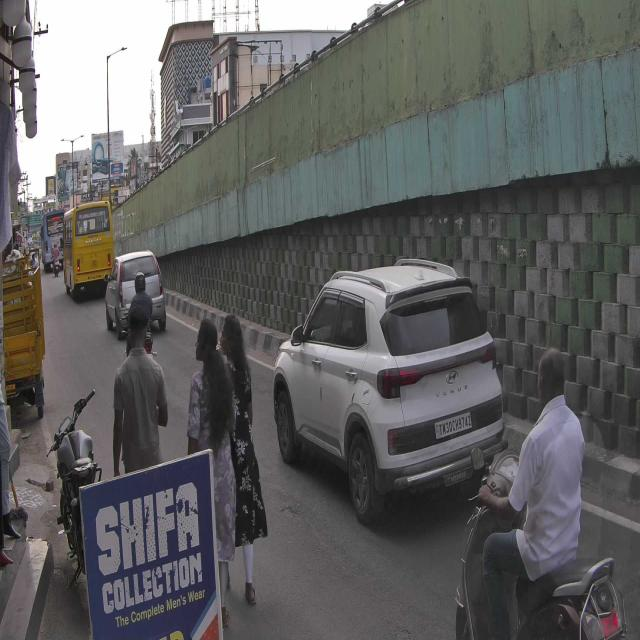single_rider: (458, 339, 621, 640)
